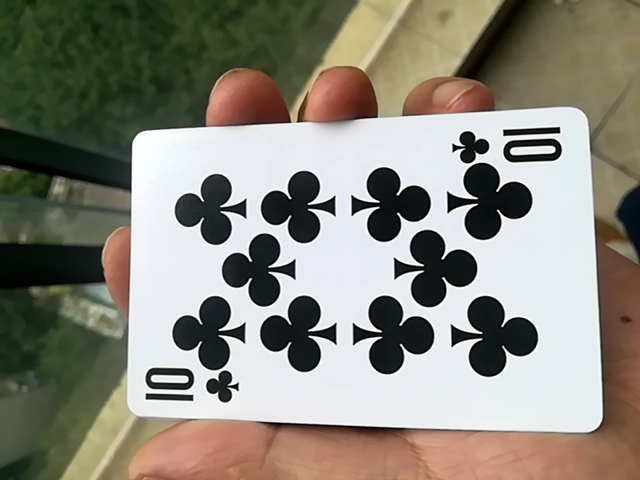mh 10: (115, 118, 600, 444)
